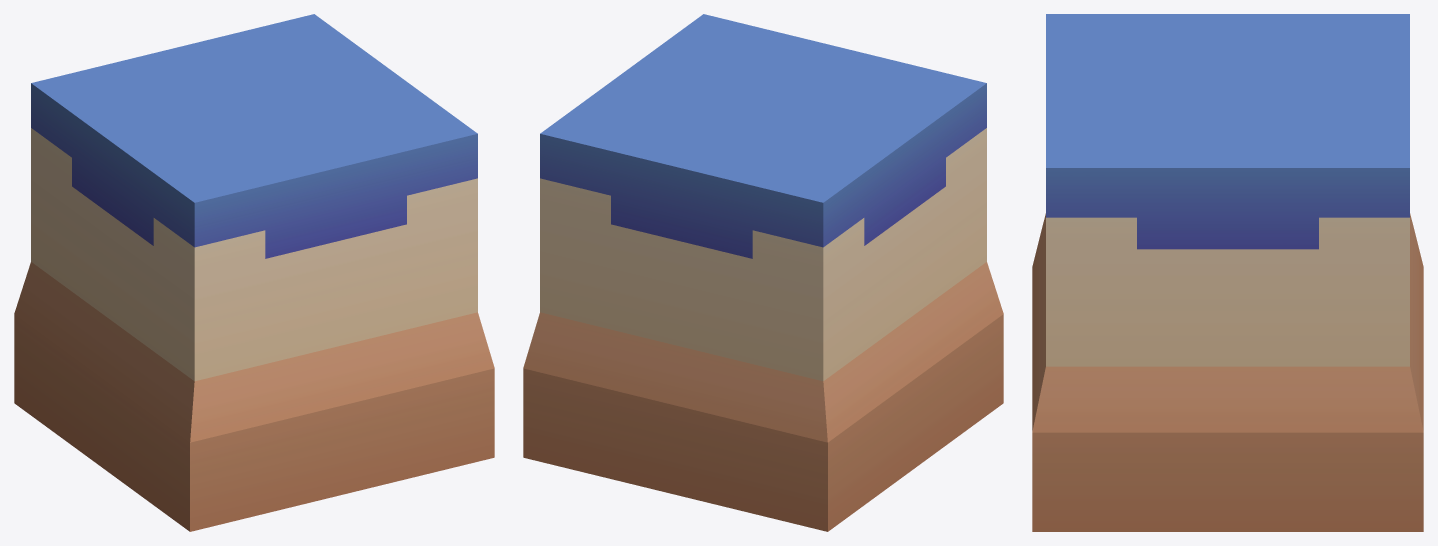
The model's file is kenney-castle-tower-square-base-color.glb.
3 views of the same model, side by side, from view 1: azimuth 30°, elevation 25°; view 2: azimuth 150°, elevation 25°; view 3: azimuth 270°, elevation 25° (orthographic). The views are drawn at different scales.
Visible parts, largest first — view 1: tower-square-base-color; view 2: tower-square-base-color; view 3: tower-square-base-color.
Boxes of the visible parts, <box> form: tower-square-base-color: <box>14,14,494,531</box>; tower-square-base-color: <box>523,14,1003,531</box>; tower-square-base-color: <box>1032,14,1423,531</box>.
Bounding box in the file's own units: 1 × 1.01 × 1.
Materials: 1 (1 with a texture image).
